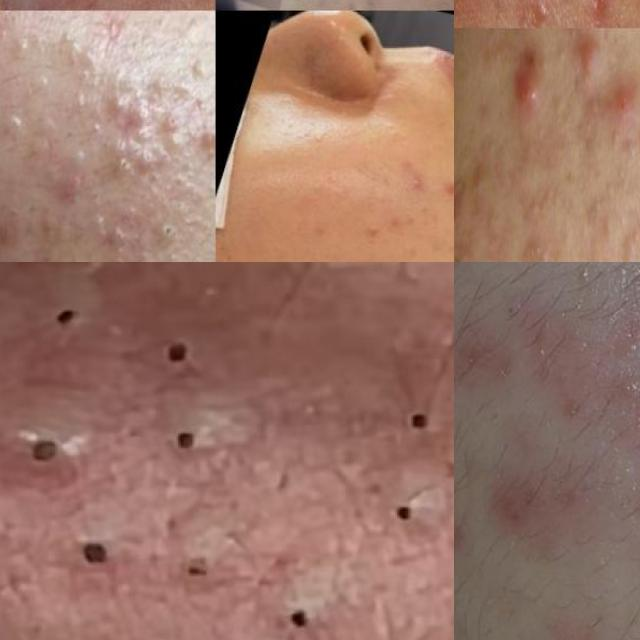comedone: (104, 131, 171, 196), (563, 262, 617, 308), (151, 205, 196, 260), (64, 140, 96, 200), (71, 528, 113, 573), (521, 176, 550, 241), (65, 37, 113, 75), (44, 303, 90, 342), (155, 422, 204, 458), (127, 96, 161, 146), (155, 330, 196, 371), (1, 101, 35, 148), (520, 228, 558, 262), (276, 600, 311, 634), (83, 108, 113, 147), (107, 220, 136, 260), (595, 204, 622, 246), (26, 437, 60, 469), (485, 128, 509, 172), (188, 48, 215, 87), (398, 407, 429, 438), (553, 76, 572, 122), (39, 106, 64, 138), (554, 33, 572, 74), (472, 168, 493, 200), (162, 106, 181, 136), (14, 29, 32, 59), (632, 205, 640, 251), (483, 28, 510, 41), (633, 120, 640, 164)
papule: (608, 65, 640, 143), (574, 28, 607, 95), (454, 172, 472, 237), (191, 116, 215, 164), (430, 172, 454, 220), (0, 208, 22, 247)
pustule: (503, 39, 555, 134), (396, 168, 438, 208), (354, 222, 396, 255)
